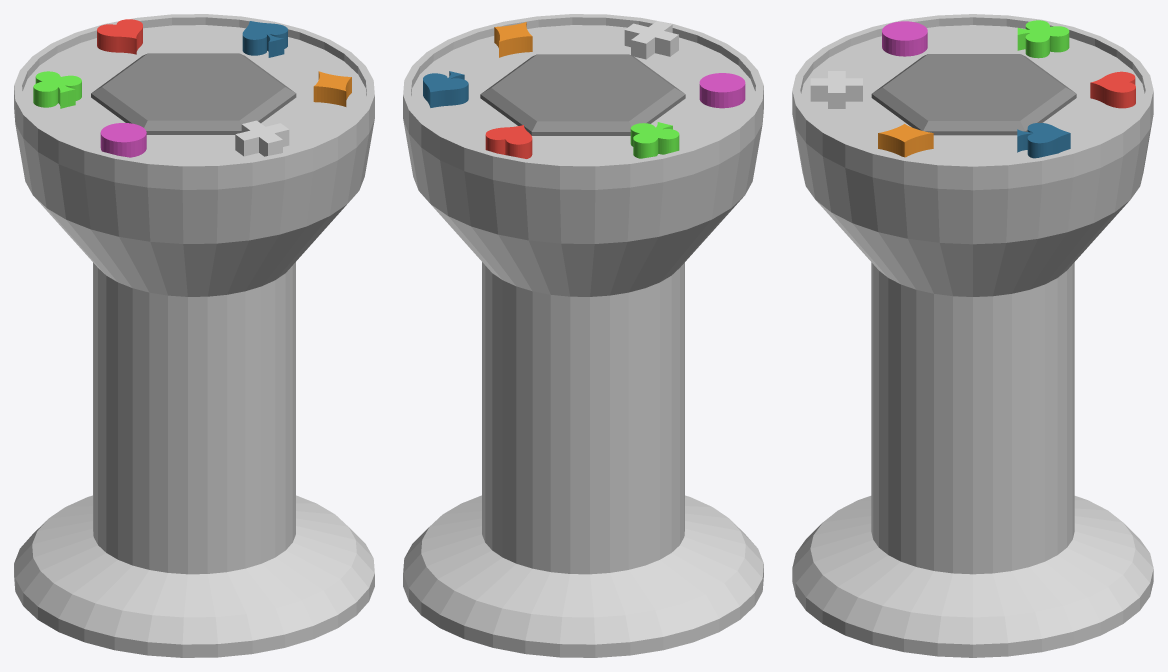
The model's file is gimictable.fbx.
3 renders of one model, left to right at view 1: azimuth 30°, elevation 25°; view 2: azimuth 150°, elevation 25°; view 3: azimuth 270°, elevation 25°, orthographic.
Visible parts, largest first — view 1: GimicTable, CenterHex, Cross, Club, Spade, Circle, Hart, Diamond; view 2: GimicTable, CenterHex, Cross, Club, Circle, Spade, Hart, Diamond; view 3: GimicTable, CenterHex, Club, Cross, Spade, Circle, Hart, Diamond.
Part boxes in pixels (<box>): GimicTable: <box>14,14,374,657</box>; CenterHex: <box>91,53,296,134</box>; Cross: <box>235,120,289,156</box>; Club: <box>33,71,81,108</box>; Spade: <box>242,21,287,57</box>; Circle: <box>100,123,146,157</box>; Hart: <box>97,19,142,54</box>; Diamond: <box>313,71,351,106</box>; GimicTable: <box>403,14,763,657</box>; CenterHex: <box>480,54,685,135</box>; Cross: <box>624,21,678,59</box>; Club: <box>630,122,679,158</box>; Circle: <box>699,73,745,108</box>; Spade: <box>423,71,468,107</box>; Hart: <box>485,125,532,158</box>; Diamond: <box>494,22,532,57</box>; GimicTable: <box>792,14,1153,657</box>; CenterHex: <box>871,54,1076,135</box>; Club: <box>1017,20,1069,58</box>; Cross: <box>810,71,862,108</box>; Spade: <box>1017,123,1070,158</box>; Circle: <box>882,21,927,56</box>; Hart: <box>1090,71,1135,108</box>; Diamond: <box>878,124,933,157</box>.
Size of the model in its own units: 200 by 305 by 200.
